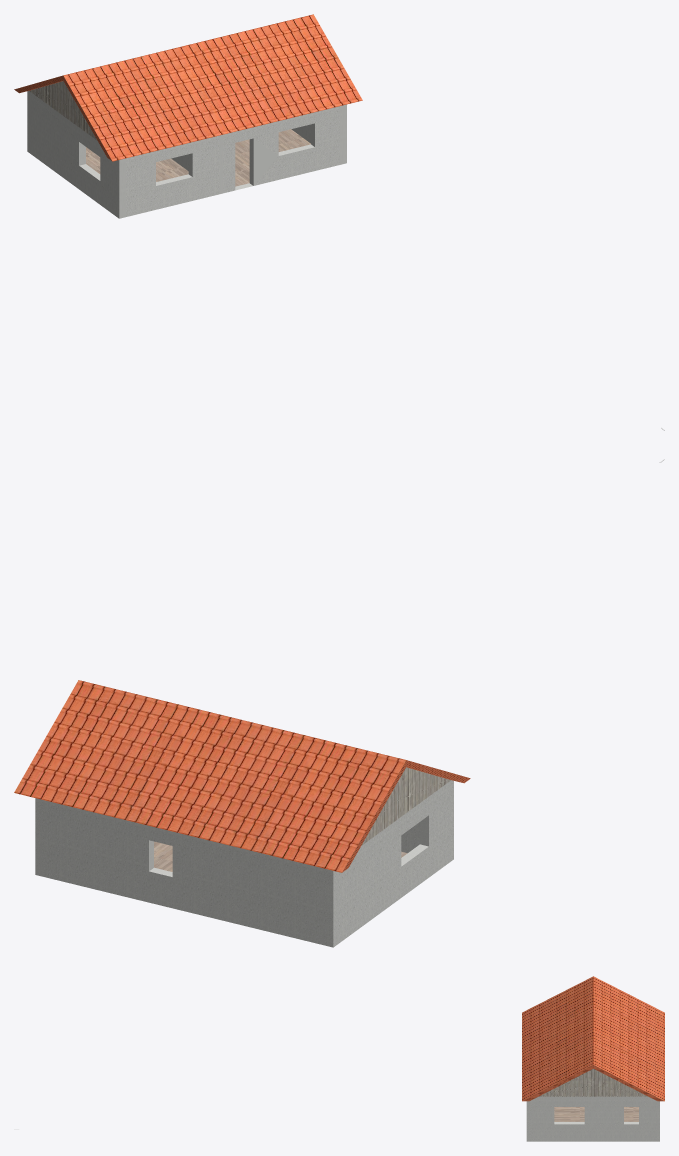
Rendered from Farmhaus_TexturIncluded.FBX.
The picture shows the model from 3 angles, top to bottom: view 1: azimuth 30°, elevation 25°; view 2: azimuth 150°, elevation 25°; view 3: azimuth 270°, elevation 25°; orthographic projection. The views are drawn at different scales.
Parts seen in each view (by area): view 1: Plane001; view 2: Plane001; view 3: Plane001.
Boxes of the visible parts, box(x1,y1,x2,y2) form: Plane001: box(14, 14, 362, 218); Plane001: box(14, 680, 470, 947); Plane001: box(522, 976, 664, 1141).
Bounding box in the file's own units: 433 × 185 × 1344.
4 materials, 4 textured.
